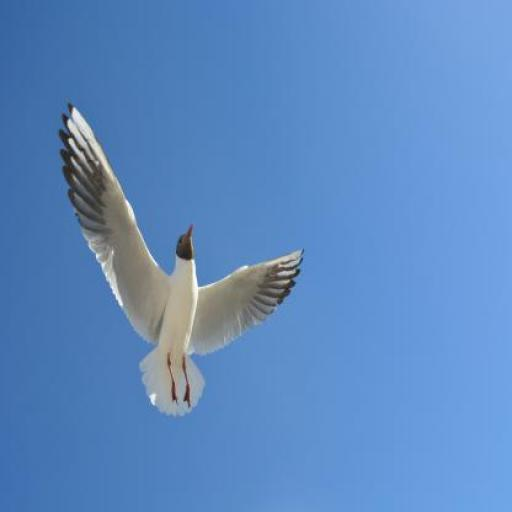bird: (60, 101, 304, 416)
